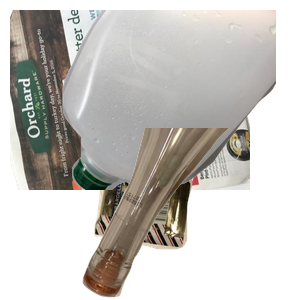glass: (80, 128, 300, 300)
paper: (10, 10, 250, 190)
plastic: (60, 10, 300, 190)
trash: (92, 158, 277, 300)
